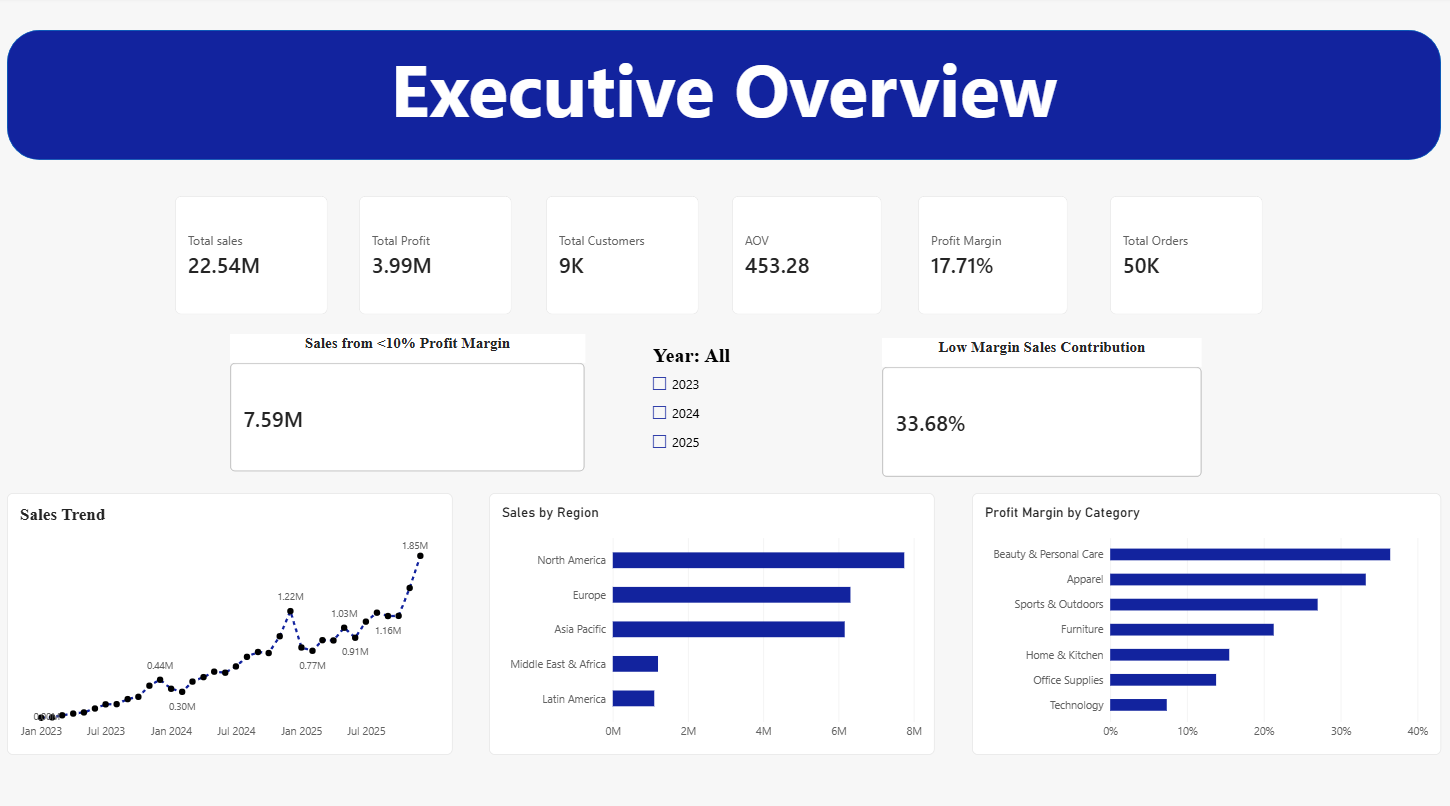

This screenshot's page, from the dashboard's own definition file:
{"tool":"powerbi","page":{"name":"Executive Overview","canvas":[1920,1080],"ordinal":0},"visuals":[{"type":"cardVisual","fields":{"Data":["FactSales.Total sales"]},"box":[234.4,262.1,201.5,156.7],"z":0},{"type":"cardVisual","fields":{"Data":["FactSales.Total Profit"]},"box":[476.8,262.1,201.5,156.7],"z":1000},{"type":"cardVisual","fields":{"Data":["FactSales.Total Orders"]},"box":[1465.9,262.1,201.5,156.7],"z":2000},{"type":"cardVisual","fields":{"Data":["FactSales.Total Customers"]},"box":[723.1,262.1,201.5,156.7],"z":3000},{"type":"cardVisual","fields":{"Data":["FactSales.Profit Margin"]},"box":[1213,262.1,197.6,156.7],"z":4000},{"type":"lineChart","title":"Sales Trend","fields":{"Category":["DimDate.Year_Month"],"Y":["FactSales.Total sales"]},"box":[13.2,653.3,587.4,345.1],"z":5000},{"type":"clusteredBarChart","title":"Sales by Region","fields":{"Category":["DimGeography.Region"],"Y":["FactSales.Total sales"]},"box":[648,653.3,587.4,345.1],"z":6000},{"type":"barChart","title":"Profit Margin by Category","fields":{"Category":["DimProduct.Category"],"Y":["FactSales.Profit Margin"]},"box":[1284.1,653.3,617.7,345.1],"z":7000},{"type":"cardVisual","fields":{"Data":["FactSales.AOV"]},"box":[968,262.1,197.6,156.7],"z":8000},{"type":"cardVisual","title":"Sales from <10% Profit Margin","fields":{"Data":["FactSales.Low Margin Sales"]},"box":[306.9,443.9,467.6,181.8],"z":9000},{"type":"cardVisual","title":"Low Margin Sales Contribution","fields":{"Data":["FactSales.Low Margin Sales Contributor"]},"box":[1165.6,449.1,421.5,183.1],"z":10000},{"type":"slicer","fields":{"Values":["DimDate.Year"]},"box":[856.1,457,248,169.2],"z":11000},{"type":"shape","box":[13.2,43.5,1888.7,171.2],"z":12000},{"type":"textbox","box":[13.2,54,1888.7,160.7],"z":13000}]}

Visuals, with their boxes in screenshot pixels (x1, y1, x2, y2), scaled from the page's 1920x1080 canvas onto the 1450x806 screenshot:
cardVisual - FactSales.Total sales: 177,196,329,313
cardVisual - FactSales.Total Profit: 360,196,512,313
cardVisual - FactSales.Total Orders: 1107,196,1259,313
cardVisual - FactSales.Total Customers: 546,196,698,313
cardVisual - FactSales.Profit Margin: 916,196,1065,313
"Sales Trend" lineChart: 10,488,454,745
"Sales by Region" clusteredBarChart: 489,488,933,745
"Profit Margin by Category" barChart: 970,488,1436,745
cardVisual - FactSales.AOV: 731,196,880,313
"Sales from <10% Profit Margin" cardVisual: 232,331,585,467
"Low Margin Sales Contribution" cardVisual: 880,335,1199,472
slicer - DimDate.Year: 647,341,834,467
shape: 10,32,1436,160
textbox: 10,40,1436,160
